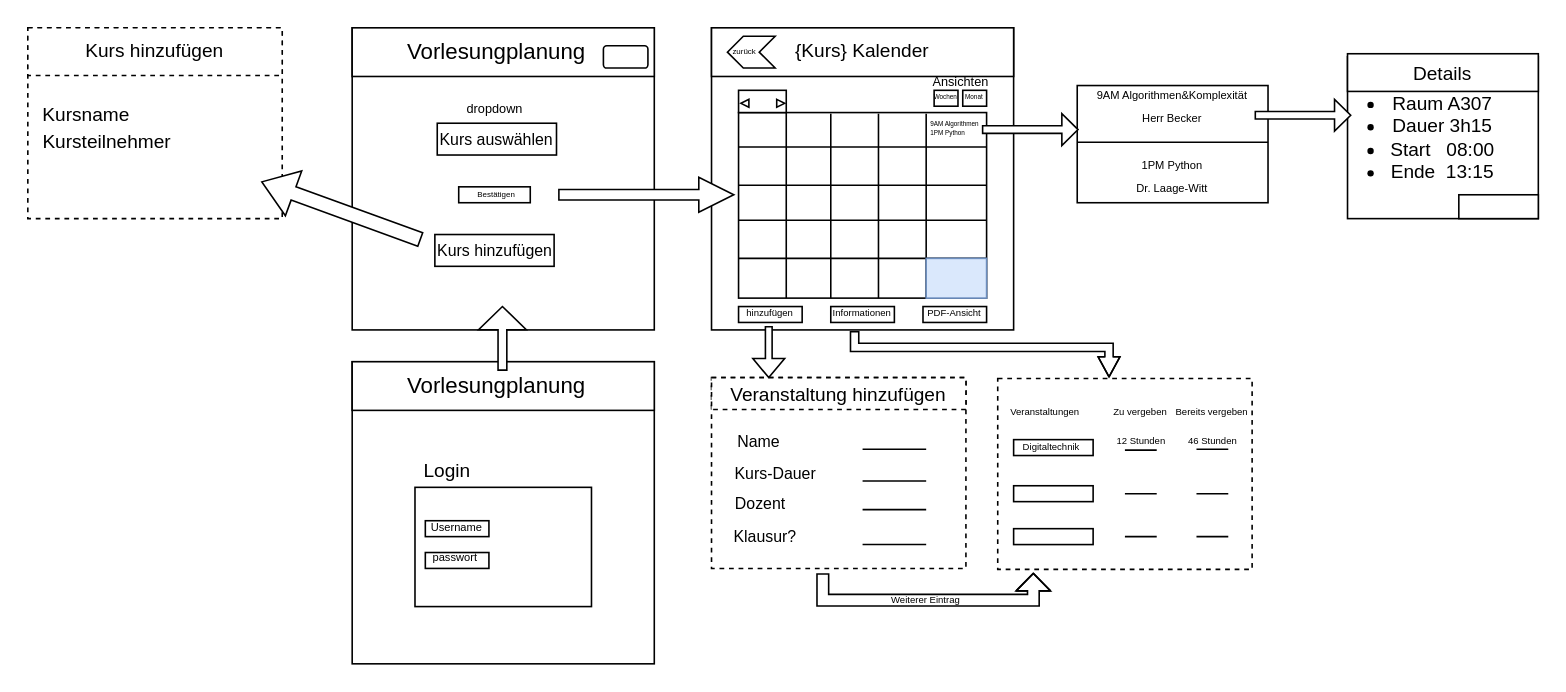
Image size: 1566x692. Some labels were removed from this diagram. Each missing label, with the centre of its shape:
"Bearbeiten" goes at pixel 1497 206.
"heute" goes at pixel 956 277.
"März" goes at pixel 761 101.
"Sign out" goes at pixel 625 56.
